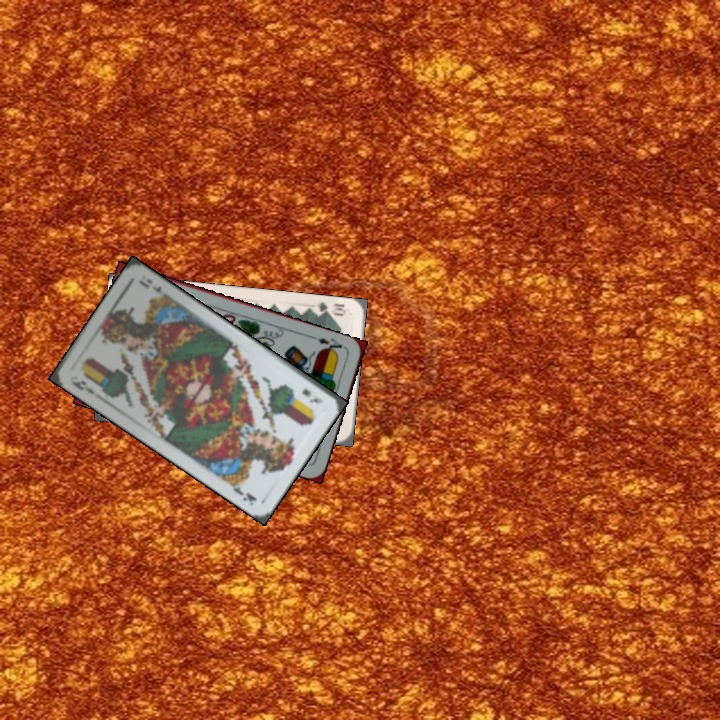EA: (314, 333, 348, 356)
EK: (298, 384, 326, 406), (68, 376, 97, 397)
G10: (309, 298, 348, 318)
